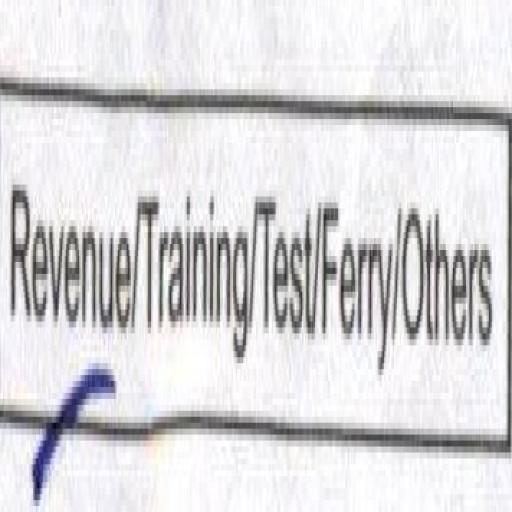check: (0, 48, 137, 512)
